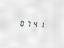four: (30, 19, 35, 28)
one: (36, 20, 41, 28)
seven: (24, 19, 29, 27)
zero: (18, 19, 23, 27)
